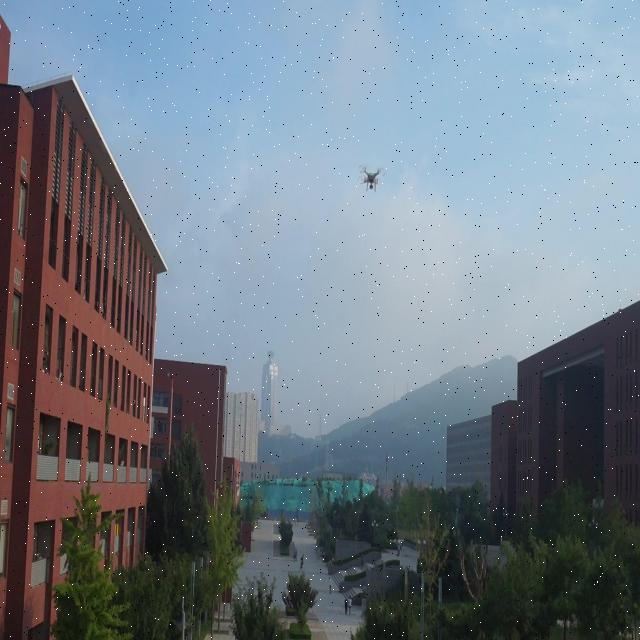UAV: (358, 164, 386, 192)
